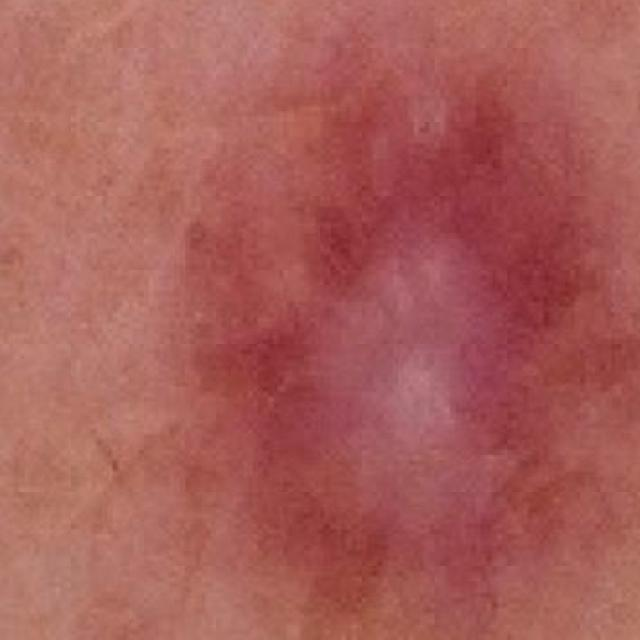DF: (107, 0, 640, 640)
